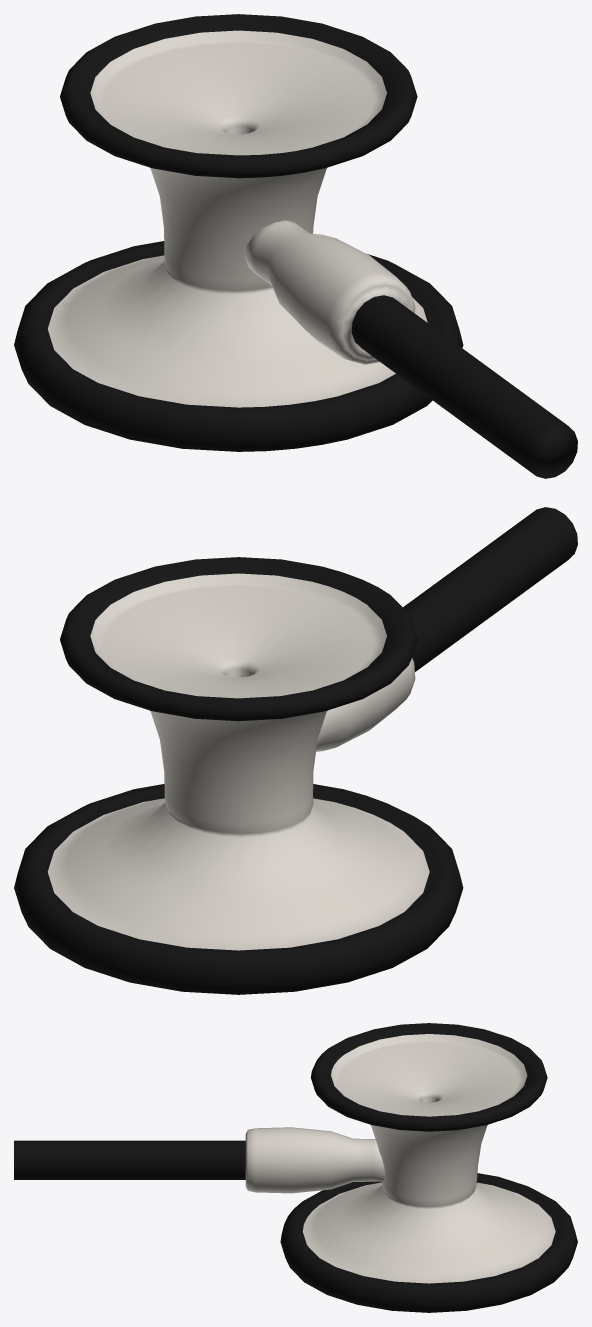
Rendered from dauongnghe (1).fbx.
The picture shows the model from 3 angles, top to bottom: view 1: azimuth 30°, elevation 25°; view 2: azimuth 150°, elevation 25°; view 3: azimuth 270°, elevation 25°; orthographic projection. The views are drawn at different scales.
Visible parts, largest first — view 1: ongnghe; view 2: ongnghe; view 3: ongnghe.
Part boxes in pixels (x1,y1,x2,y2): ongnghe: (14, 14, 577, 478); ongnghe: (14, 507, 577, 994); ongnghe: (14, 1023, 577, 1312).
Size of the model in its own units: 1.74 by 1.2 by 3.3.
3 materials, 3 textured.
